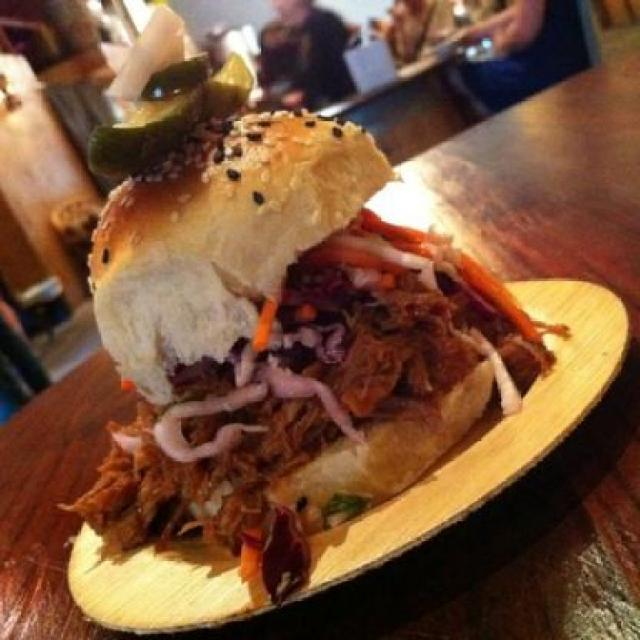Hamburger: (56, 3, 572, 605)
